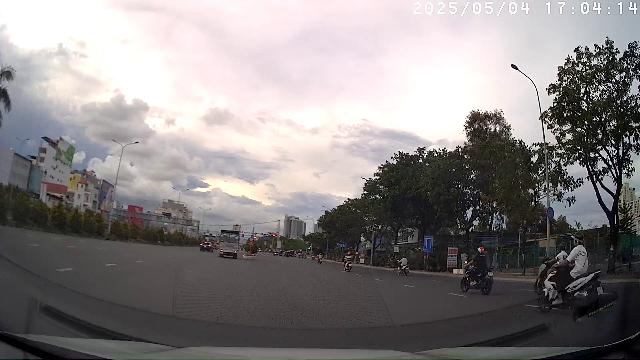131a-cam-do-xe: (546, 207, 554, 219)
